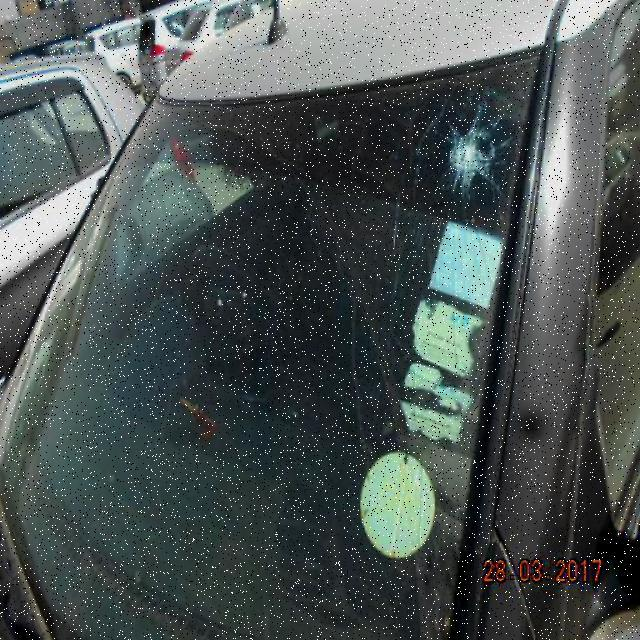car damage: (439, 112, 499, 203)
